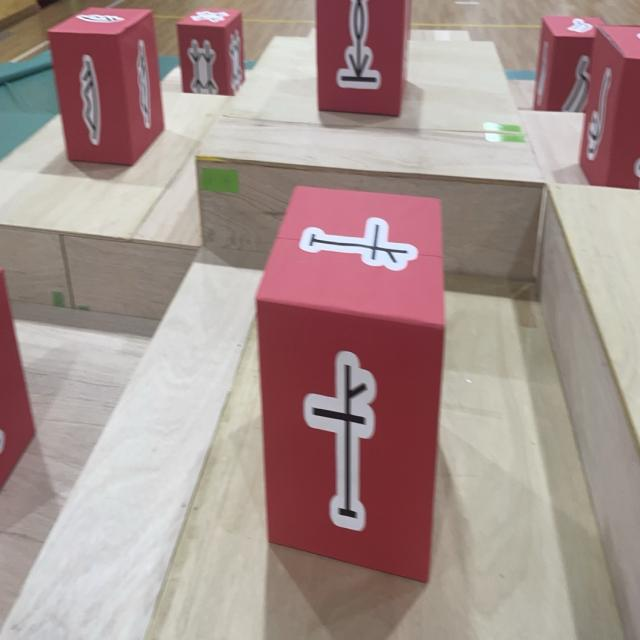10: (562, 54, 592, 113), (568, 17, 593, 32)
11: (79, 54, 102, 148), (136, 40, 152, 128), (77, 13, 125, 23)
13: (588, 66, 612, 161)
6: (186, 38, 219, 95), (228, 32, 242, 92), (192, 9, 229, 23)
7: (338, 0, 382, 91)
9: (303, 350, 376, 532), (301, 216, 418, 272)
fighter: (255, 184, 446, 585), (47, 5, 164, 167), (316, 0, 407, 118), (579, 22, 640, 190), (0, 266, 37, 493), (533, 14, 607, 112), (176, 9, 245, 96)
